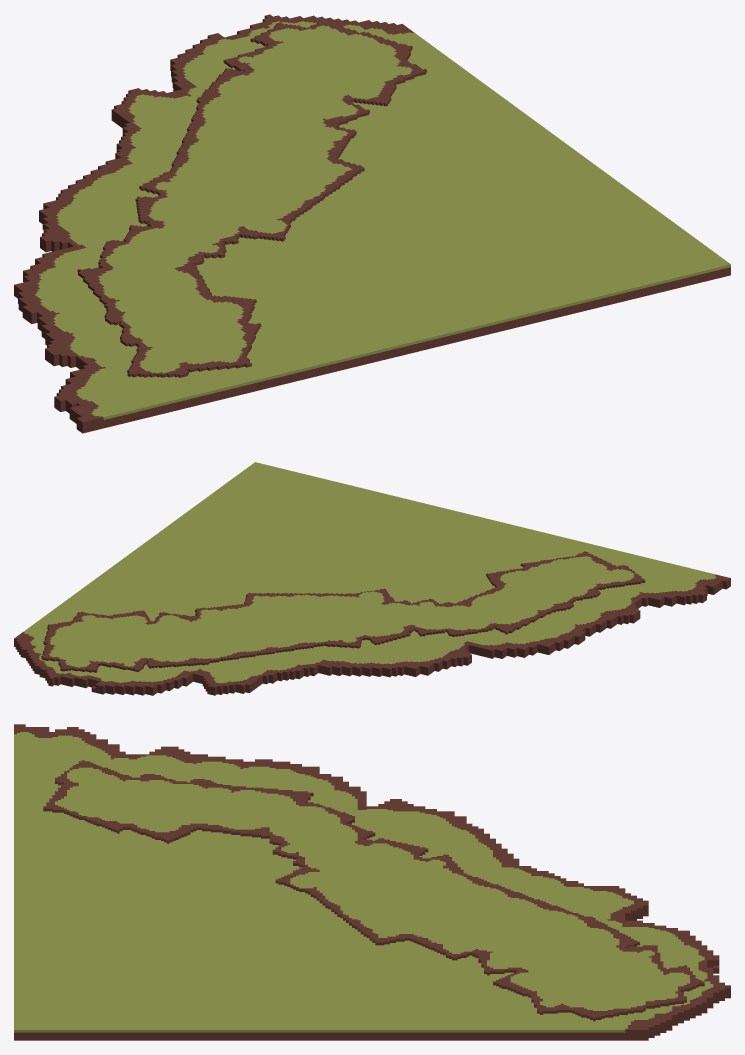
File: G Map (top left).obj
The picture shows the model from 3 angles, top to bottom: view 1: azimuth 30°, elevation 25°; view 2: azimuth 150°, elevation 25°; view 3: azimuth 270°, elevation 25°; orthographic projection. The views are drawn at different scales.
Size of the model in its own units: 24.6 by 0.5 by 24.4.
1 material, 1 textured.
